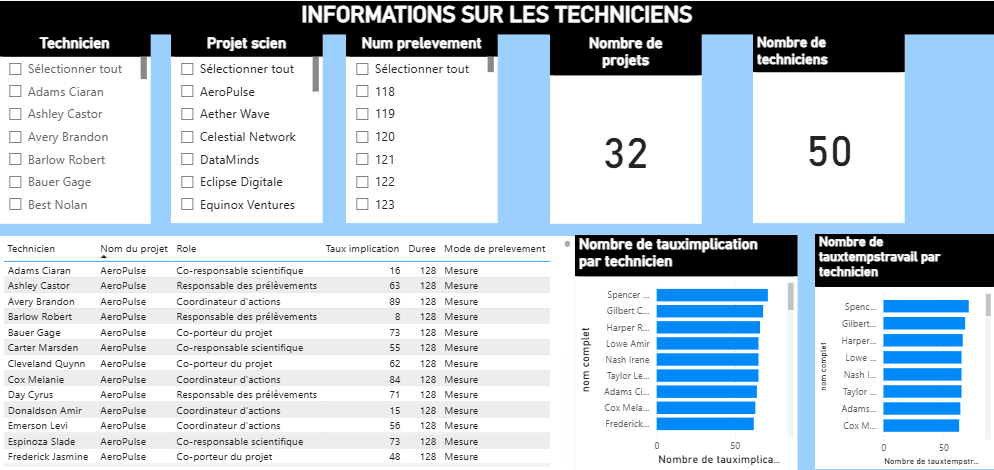

This screenshot's page, from the dashboard's own definition file:
{"tool":"powerbi","page":{"name":"Page 1","canvas":[1280,720],"ordinal":0},"visuals":[{"type":"textbox","title":"INFORMATIONS SUR LES TECHNICIENS","box":[0,0,1280,42.8],"z":0},{"type":"slicer","title":"Technicien","fields":{"Values":["Rapport1.nom complet"]},"box":[0,42.8,194.5,244.1],"z":1000},{"type":"slicer","title":"Projet scien","fields":{"Values":["Rapport1.nomprojet"]},"box":[220.8,42.8,194.5,243.2],"z":2000},{"type":"card","title":"Nombre de techniciens","fields":{"Values":["Rapport1.nom complet"]},"box":[969.2,42,194.8,242.8],"z":3000},{"type":"card","title":"Nombre de projets","fields":{"Values":["Rapport1.nomprojet"]},"box":[708.4,42,194.8,243.8],"z":4000},{"type":"tableEx","fields":{"Values":["Rapport1.nom complet","Rapport1.nomprojet","Rapport1.role","Rapport1.tauximplication","Rapport1.duree","Rapport1.libellemodeprelevement"]},"box":[0,301.5,740.2,300.5],"z":6000},{"type":"slicer","title":"Num prelevement","fields":{"Values":["Rapport1.numprelevement"]},"box":[445.5,42.8,194.5,243.2],"z":7000},{"type":"clusteredBarChart","title":"Nombre de tauximplication par technicien","fields":{"Category":["Rapport1.nom complet"],"Y":["Rapport1.tauximplication"]},"box":[740.2,300.5,286,301.5],"z":7001},{"type":"clusteredBarChart","title":"Nombre de tauxtempstravail par technicien","fields":{"Y":["Rapport1.tauxtempstravail"],"Category":["Rapport1.nom complet"]},"box":[1048.5,299.6,231.5,302.5],"z":7002}]}

Visuals, with their boxes on the page's 1280x720 design canvas (x1, y1, x2, y2). These are canvas units, not pixel positions in the 994x470 screenshot, which may show the page scaled, cropped or inside an application window:
"INFORMATIONS SUR LES TECHNICIENS" textbox: box(0, 0, 1280, 43)
"Technicien" slicer: box(0, 43, 194, 287)
"Projet scien" slicer: box(221, 43, 415, 286)
"Nombre de techniciens" card: box(969, 42, 1164, 285)
"Nombre de projets" card: box(708, 42, 903, 286)
tableEx - Rapport1.nom complet x Rapport1.nomprojet: box(0, 302, 740, 602)
"Num prelevement" slicer: box(446, 43, 640, 286)
"Nombre de tauximplication par technicien" clusteredBarChart: box(740, 300, 1026, 602)
"Nombre de tauxtempstravail par technicien" clusteredBarChart: box(1048, 300, 1280, 602)
